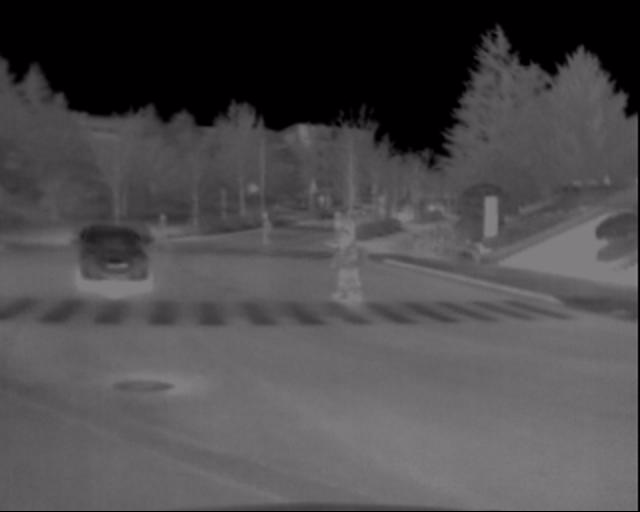person: (316, 223, 369, 299), (156, 215, 176, 254), (256, 212, 276, 251)
